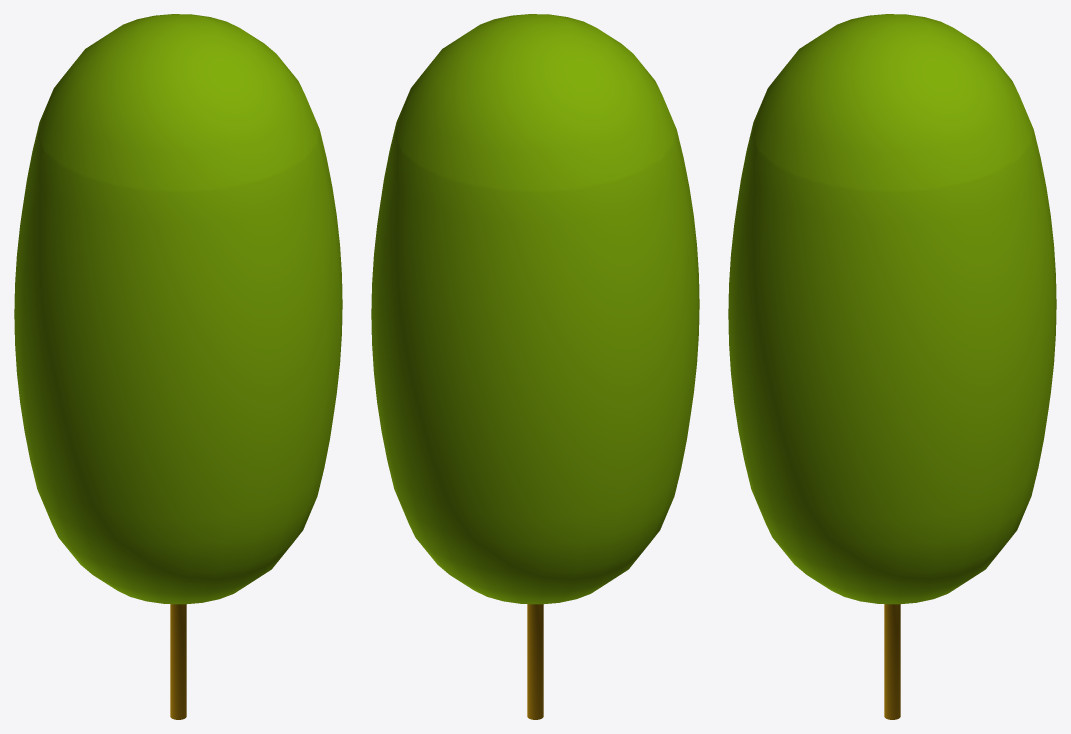
File: LPo28m.glb
3 renders of one model, left to right at view 1: azimuth 30°, elevation 25°; view 2: azimuth 150°, elevation 25°; view 3: azimuth 270°, elevation 25°, orthographic.
Visible parts, largest first — view 1: LPo28m; view 2: LPo28m; view 3: LPo28m.
Part boxes in pixels (x1=…): LPo28m: x1=14, y1=14, x2=342, y2=719; LPo28m: x1=371, y1=14, x2=699, y2=719; LPo28m: x1=728, y1=14, x2=1056, y2=719.
Bounding box in the file's own units: 12.05 × 28 × 12.05.
